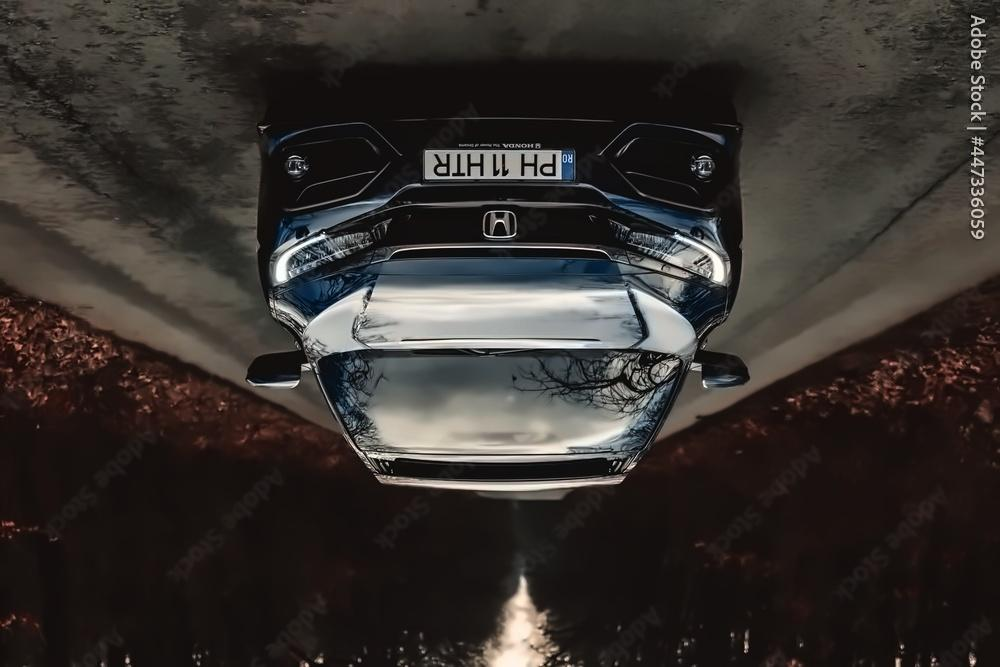Car hood: (276, 251, 704, 358)
Front bumper: (259, 109, 745, 230)
Headlight - -L-: (271, 216, 396, 288)
Headlight - -R-: (620, 228, 734, 292)
Side mirror - -L-: (247, 347, 313, 394)
Side mirror - -R-: (683, 348, 750, 390)
